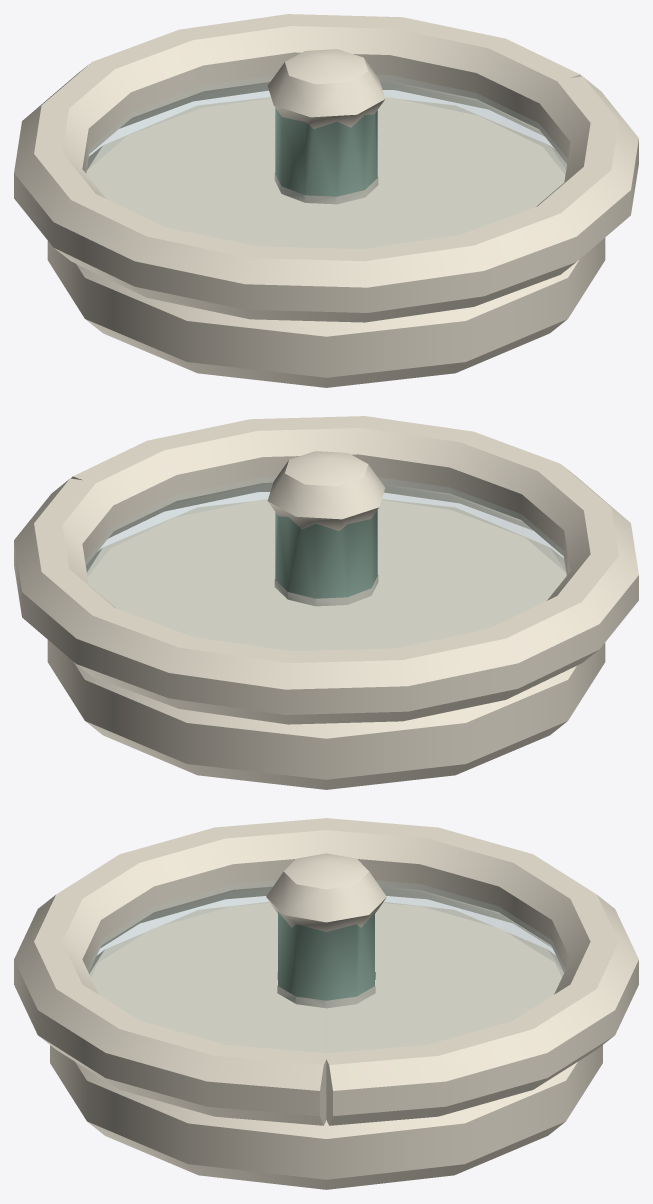
The model's file is small-fountain-basin.glb.
3 views of the same model, one above another, from view 1: azimuth 30°, elevation 25°; view 2: azimuth 150°, elevation 25°; view 3: azimuth 270°, elevation 25° (orthographic).
Visible parts, largest first — view 1: small-fountain-basin; view 2: small-fountain-basin; view 3: small-fountain-basin.
Part boxes in pixels (left/top/right/bottom): small-fountain-basin: left=14, top=14, right=638, bottom=387; small-fountain-basin: left=14, top=416, right=638, bottom=789; small-fountain-basin: left=14, top=818, right=638, bottom=1189.
Size of the model in its own units: 3.61 by 1.41 by 3.62.
Materials: 2 (1 with a texture image).
